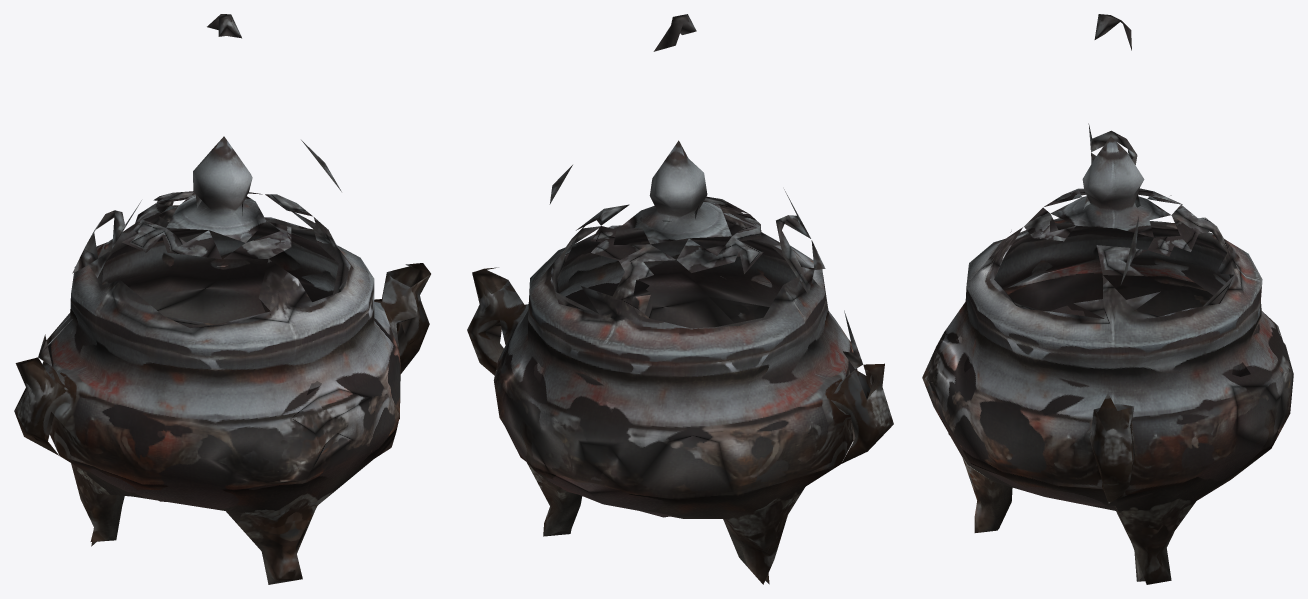
The model's file is weapon-censer-of-hours.glb.
3 views of the same model, side by side, from view 1: azimuth 30°, elevation 25°; view 2: azimuth 150°, elevation 25°; view 3: azimuth 270°, elevation 25° (orthographic).
Visible parts, largest first — view 1: geometry_0; view 2: geometry_0; view 3: geometry_0.
Part boxes in pixels (<box>): geometry_0: <box>14,14,430,584</box>; geometry_0: <box>467,14,893,584</box>; geometry_0: <box>922,14,1293,584</box>.
Size of the model in its own units: 0.723 by 0.878 by 0.5672.
1 material, 1 textured.
